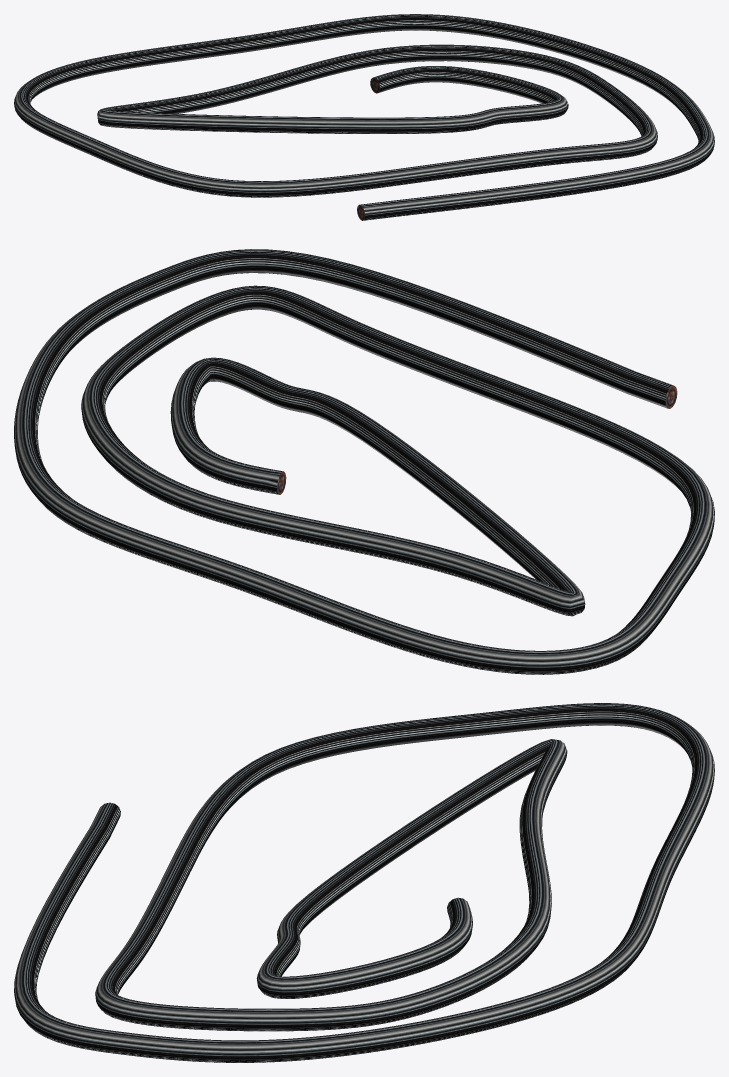
Rendered from Wire.fbx.
The picture shows the model from 3 angles, top to bottom: view 1: azimuth 30°, elevation 25°; view 2: azimuth 150°, elevation 25°; view 3: azimuth 270°, elevation 25°; orthographic projection. The views are drawn at different scales.
Visible parts, largest first — view 1: Wire; view 2: Wire; view 3: Wire.
Boxes of the visible parts, box(x1,y1,x2,y2) form: Wire: box(14, 14, 714, 220); Wire: box(14, 249, 714, 674); Wire: box(14, 703, 714, 1062).
Bounding box in the file's own units: 14.41 × 0.4078 × 12.31.
Materials: 1 (1 with a texture image).
